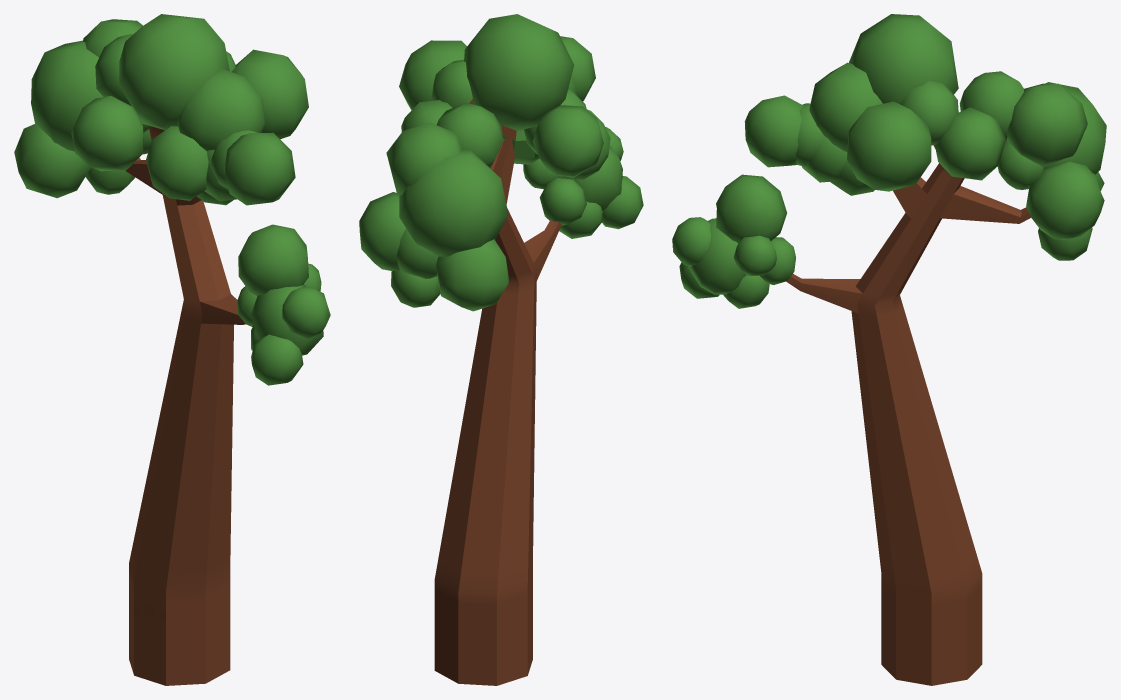
File: Thintree.fbx
3 views of the same model, side by side, from view 1: azimuth 30°, elevation 25°; view 2: azimuth 150°, elevation 25°; view 3: azimuth 270°, elevation 25° (orthographic). The views are drawn at different scales.
Visible parts, largest first — view 1: polySurface1; view 2: polySurface1; view 3: polySurface1.
Part boxes in pixels (box(x1,y1,x2,y2)): polySurface1: box(14, 14, 330, 685); polySurface1: box(359, 14, 643, 685); polySurface1: box(672, 14, 1106, 685).
Size of the model in its own units: 4.73 by 13.94 by 8.61.
Materials: 1 (1 with a texture image).
